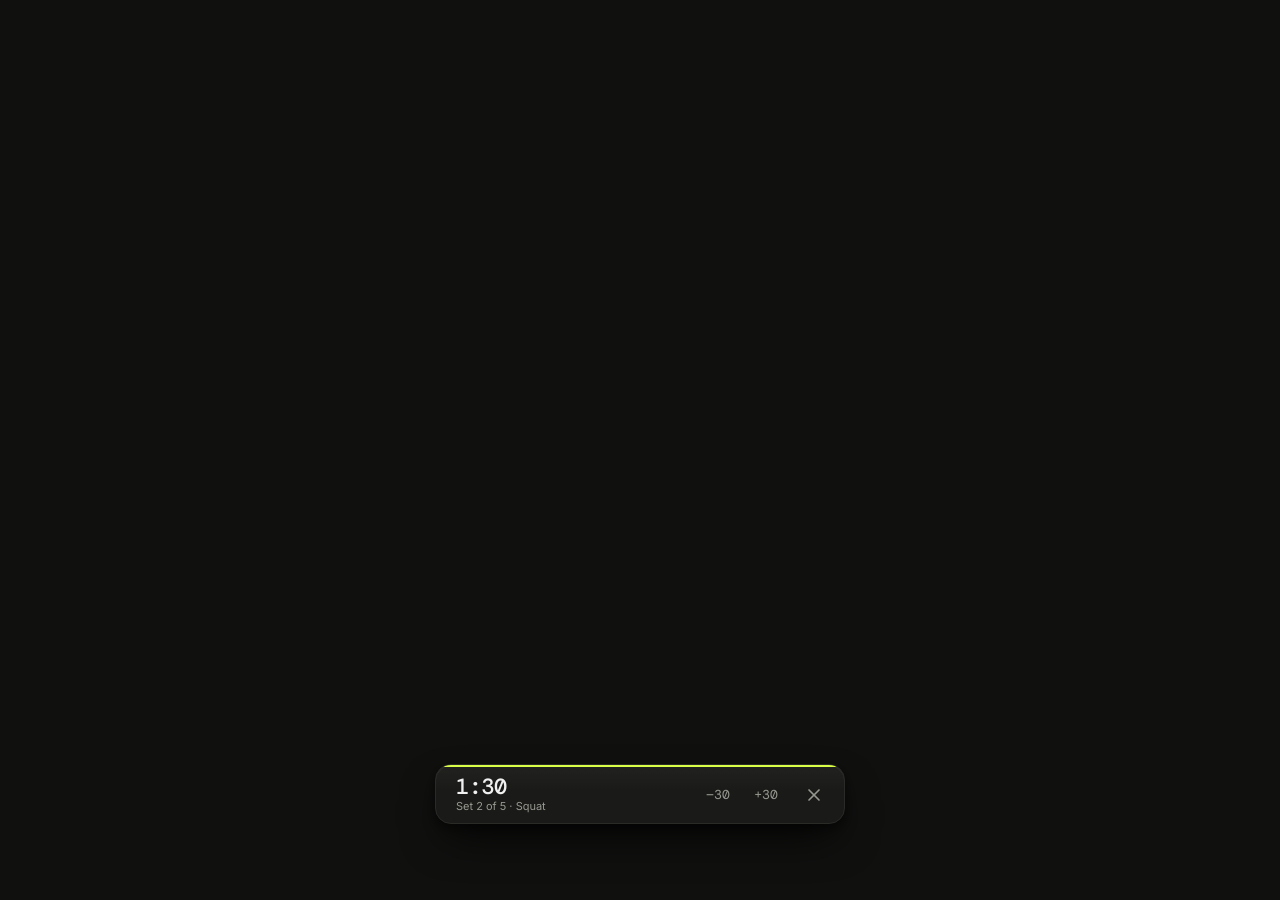
Test: the focus view › opens from the countdown and minimises back, sharing one deadline
This screenshot has width=1280, height=900.
What coordinates should you click on to do the following:
click the button with aria-label "Open large timer"
I would click on:
 (574, 795)
Its box is [456,775,692,815].
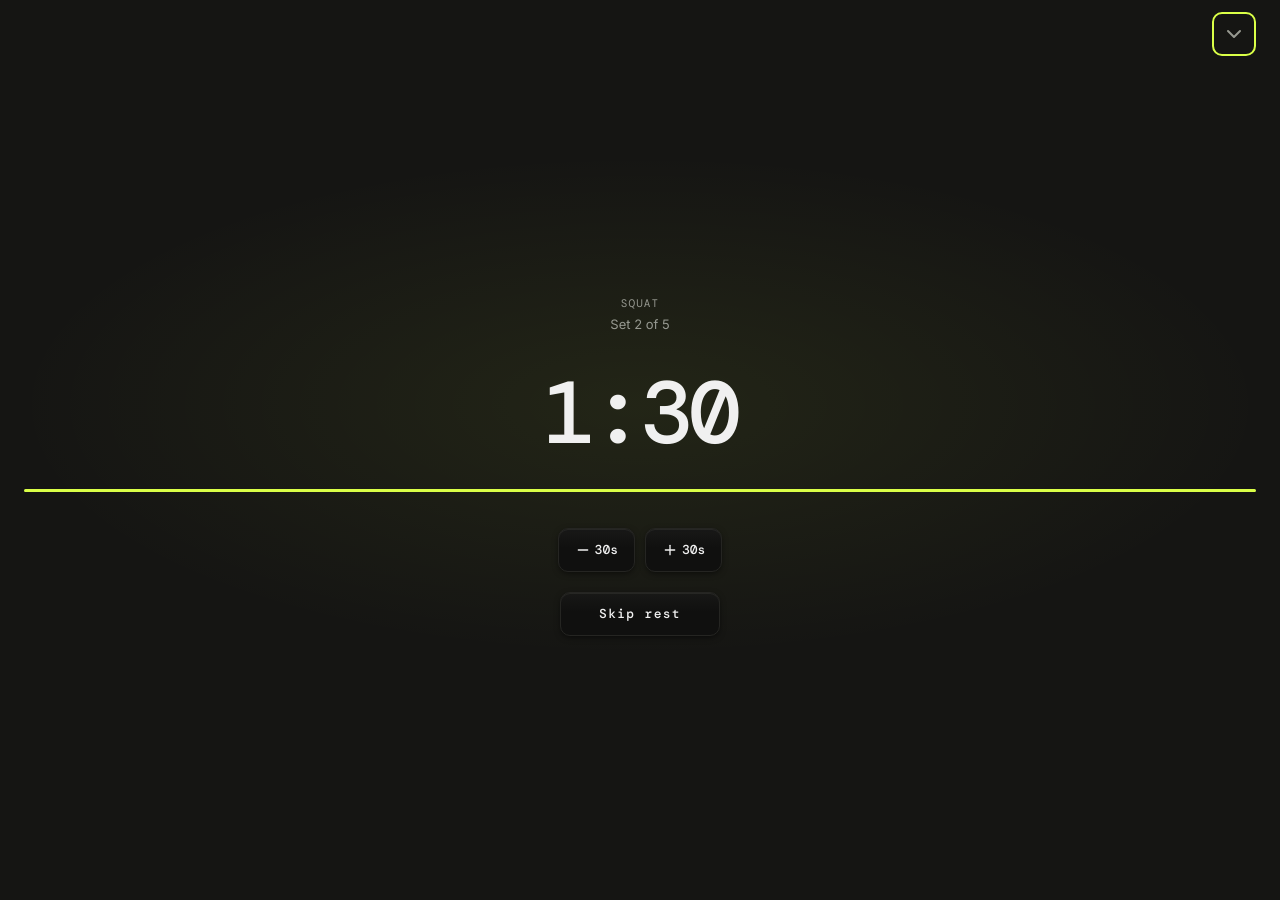
Expected: the dialog is shown
// Adjusting in the focus view moves the bar's countdown too.
What coordinates should you click on to do the following:
click the button named "30 seconds more rest"
I would click on:
 (684, 550)
Its box is [645,528,722,572].
Wait 250 ms
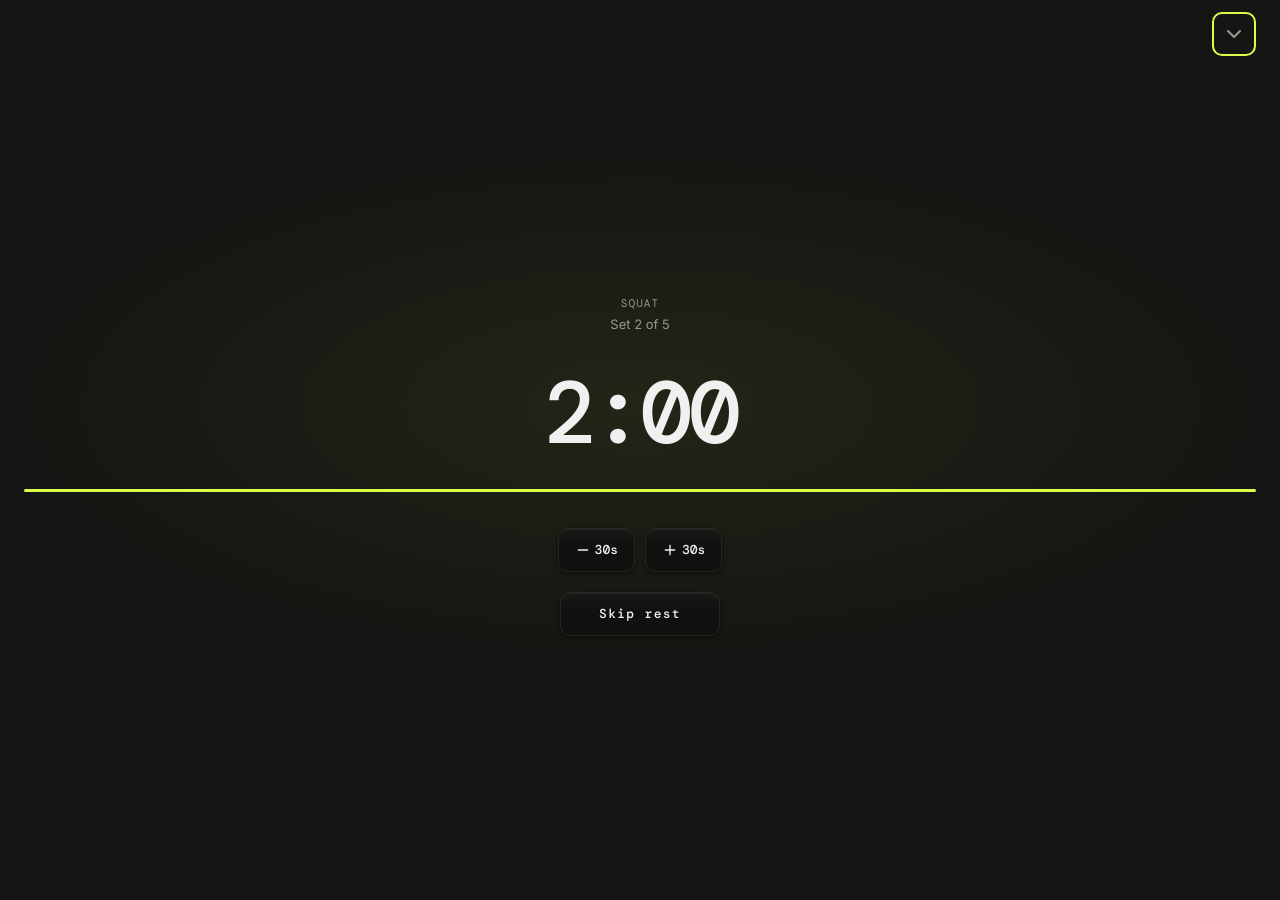
Expected: the button named "2:00 rest left" is shown
What coordinates should you click on to do the following:
click the button named "2:00 rest left. Minimise"
I would click on:
 (640, 413)
Its box is [543,369,737,457].
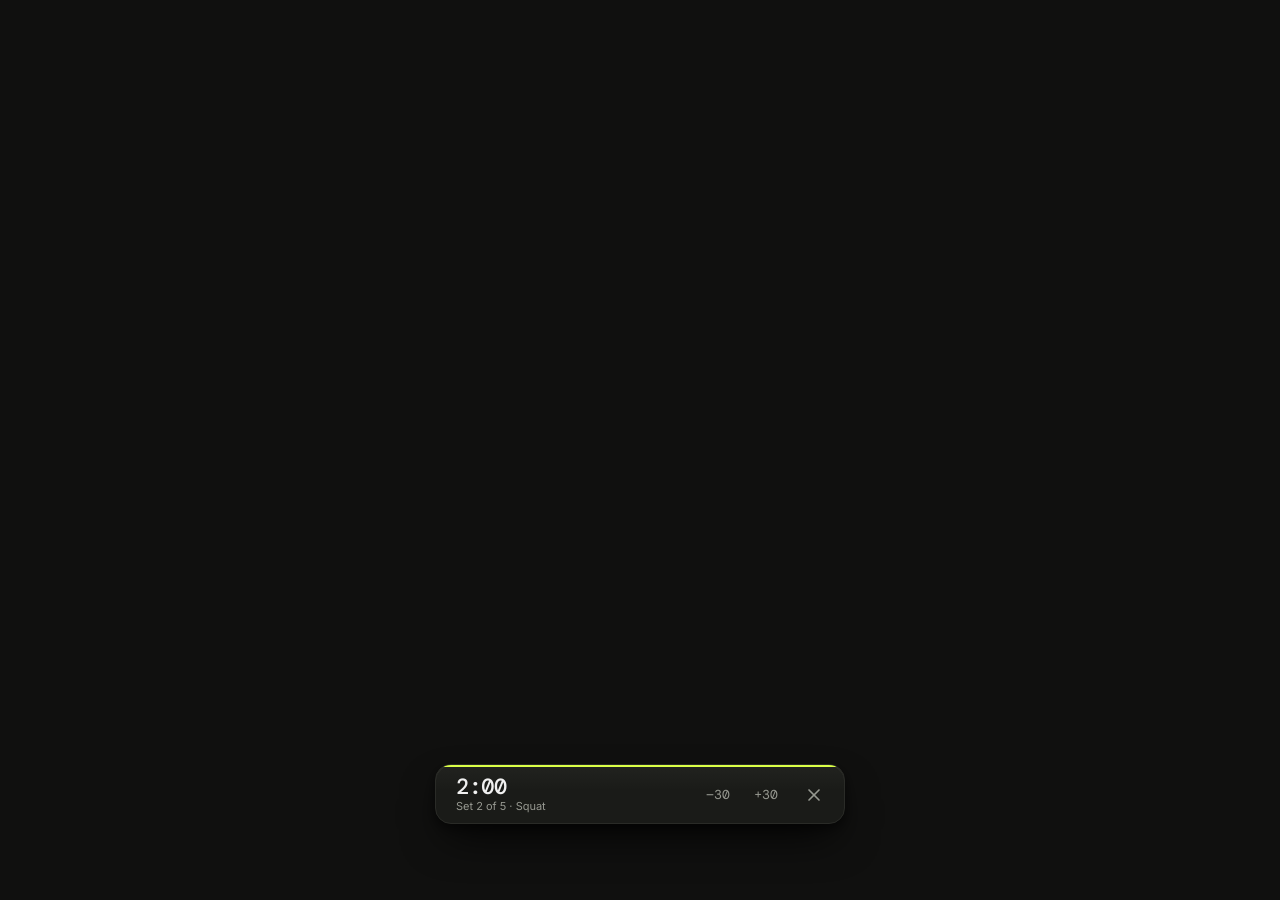
Expected: the button with aria-label "2:00 rest left. Open" is shown, [456,775,692,815]
Expected: the dialog is gone
